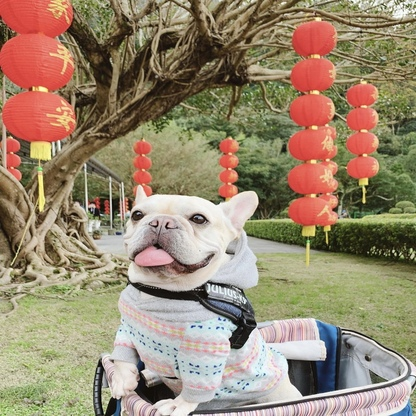bulldog: (110, 183, 308, 416)
